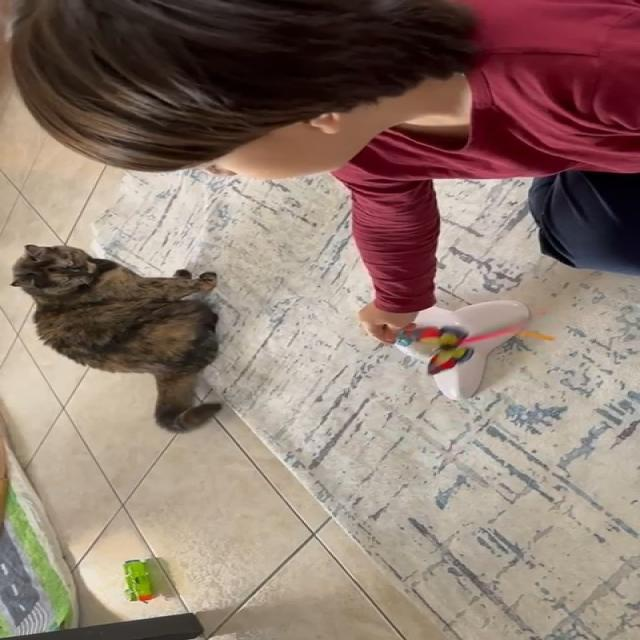authorized: (9, 244, 223, 433)
